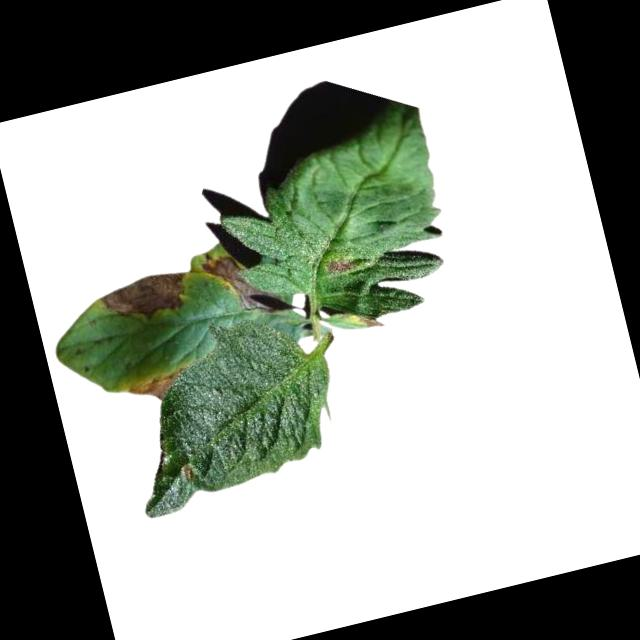Early_blight: (197, 236, 289, 328), (90, 266, 193, 333), (122, 365, 193, 409), (325, 253, 355, 279), (357, 310, 386, 334), (177, 463, 195, 482)
